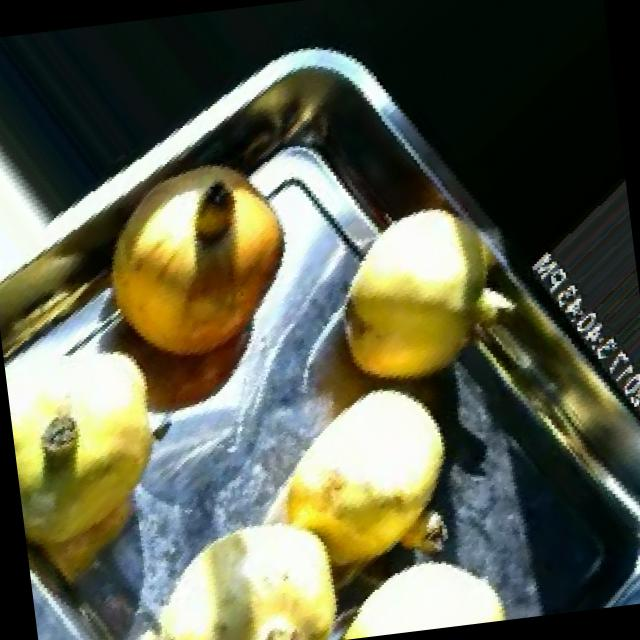fruit: (53, 117, 330, 403), (287, 165, 545, 433), (240, 348, 500, 610), (0, 314, 197, 569), (140, 481, 368, 640), (306, 532, 536, 640)
